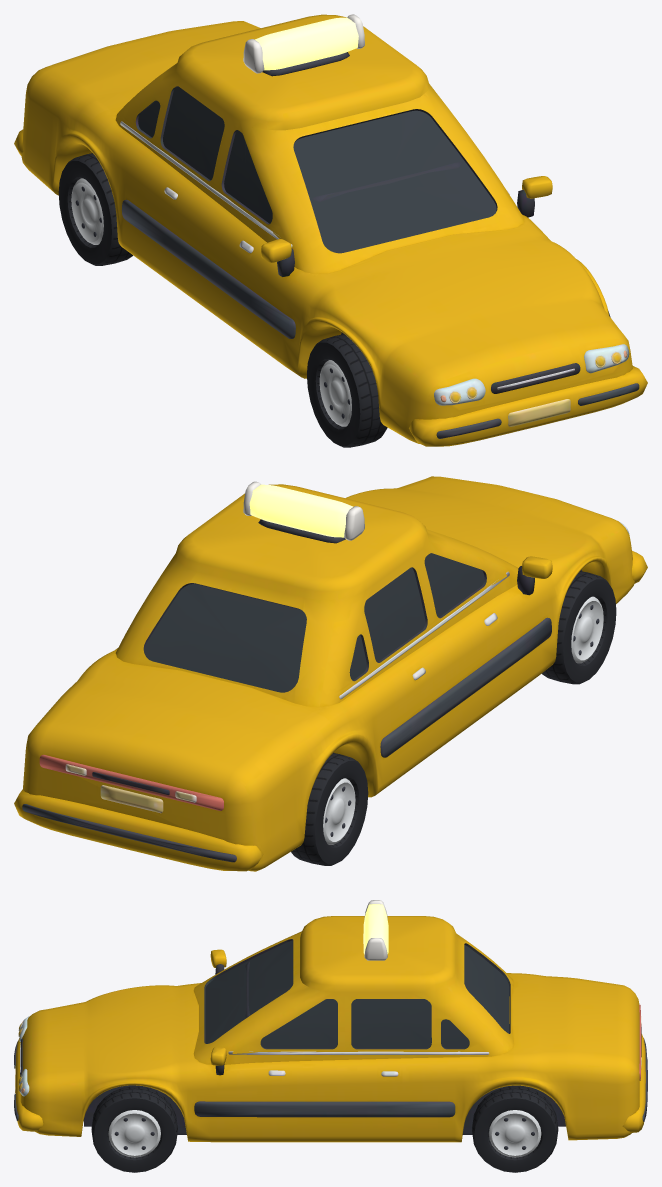
Rendered from car_taxi.glb.
The picture shows the model from 3 angles, top to bottom: view 1: azimuth 30°, elevation 25°; view 2: azimuth 150°, elevation 25°; view 3: azimuth 270°, elevation 25°; orthographic projection. The views are drawn at different scales.
Visible parts, largest first — view 1: 1990s-taxi_body, 1990s-taxi_windows, 1990s-taxi_wheel_fr, 1990s-taxi_wheel_rr, 1990s-taxi_roof_sign; view 2: 1990s-taxi_body, 1990s-taxi_windows, 1990s-taxi_wheel_rr, 1990s-taxi_wheel_fr, 1990s-taxi_roof_sign; view 3: 1990s-taxi_body, 1990s-taxi_windows, 1990s-taxi_wheel_fl, 1990s-taxi_wheel_rl, 1990s-taxi_roof_sign.
Part boxes in pixels (x1,y1,x2,y2): 1990s-taxi_body: (14,14,647,446); 1990s-taxi_windows: (138,86,496,253); 1990s-taxi_wheel_fr: (307,334,387,447); 1990s-taxi_wheel_rr: (58,153,132,265); 1990s-taxi_roof_sign: (243,14,364,76); 1990s-taxi_body: (14,476,647,871); 1990s-taxi_windows: (144,553,484,692); 1990s-taxi_wheel_rr: (291,753,368,865); 1990s-taxi_wheel_fr: (541,571,616,684); 1990s-taxi_roof_sign: (243,481,364,543); 1990s-taxi_body: (14,916,647,1142); 1990s-taxi_windows: (205,940,509,1048); 1990s-taxi_wheel_fl: (91,1086,177,1172); 1990s-taxi_wheel_rl: (472,1086,558,1172); 1990s-taxi_roof_sign: (363,900,388,960).
Size of the model in its own units: 1.94 by 1.75 by 4.83.
Materials: 8 (2 with a texture image).
